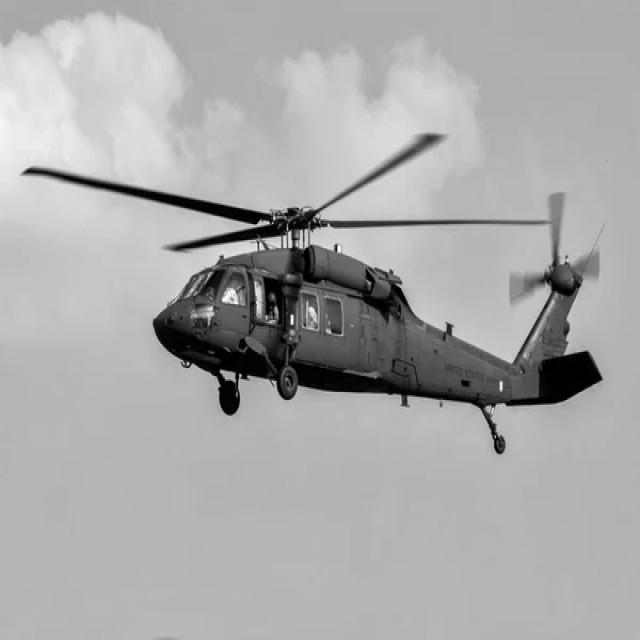Helicopter: (22, 132, 603, 454)
